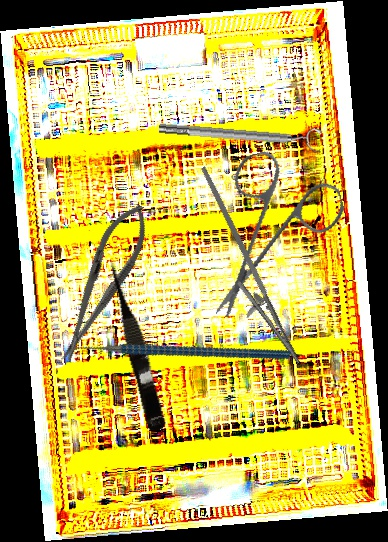Chopper: (60, 276, 292, 436)
Fixation Ring: (158, 113, 322, 155)
Iris Scissors: (176, 134, 365, 320)
Micro Scissor: (102, 254, 172, 435)
Needle Holder: (164, 165, 324, 374), (45, 195, 161, 369)
